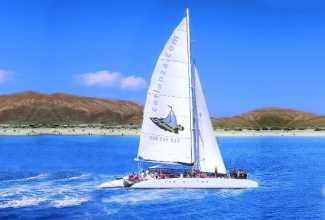fanchuan: (93, 6, 260, 194)
